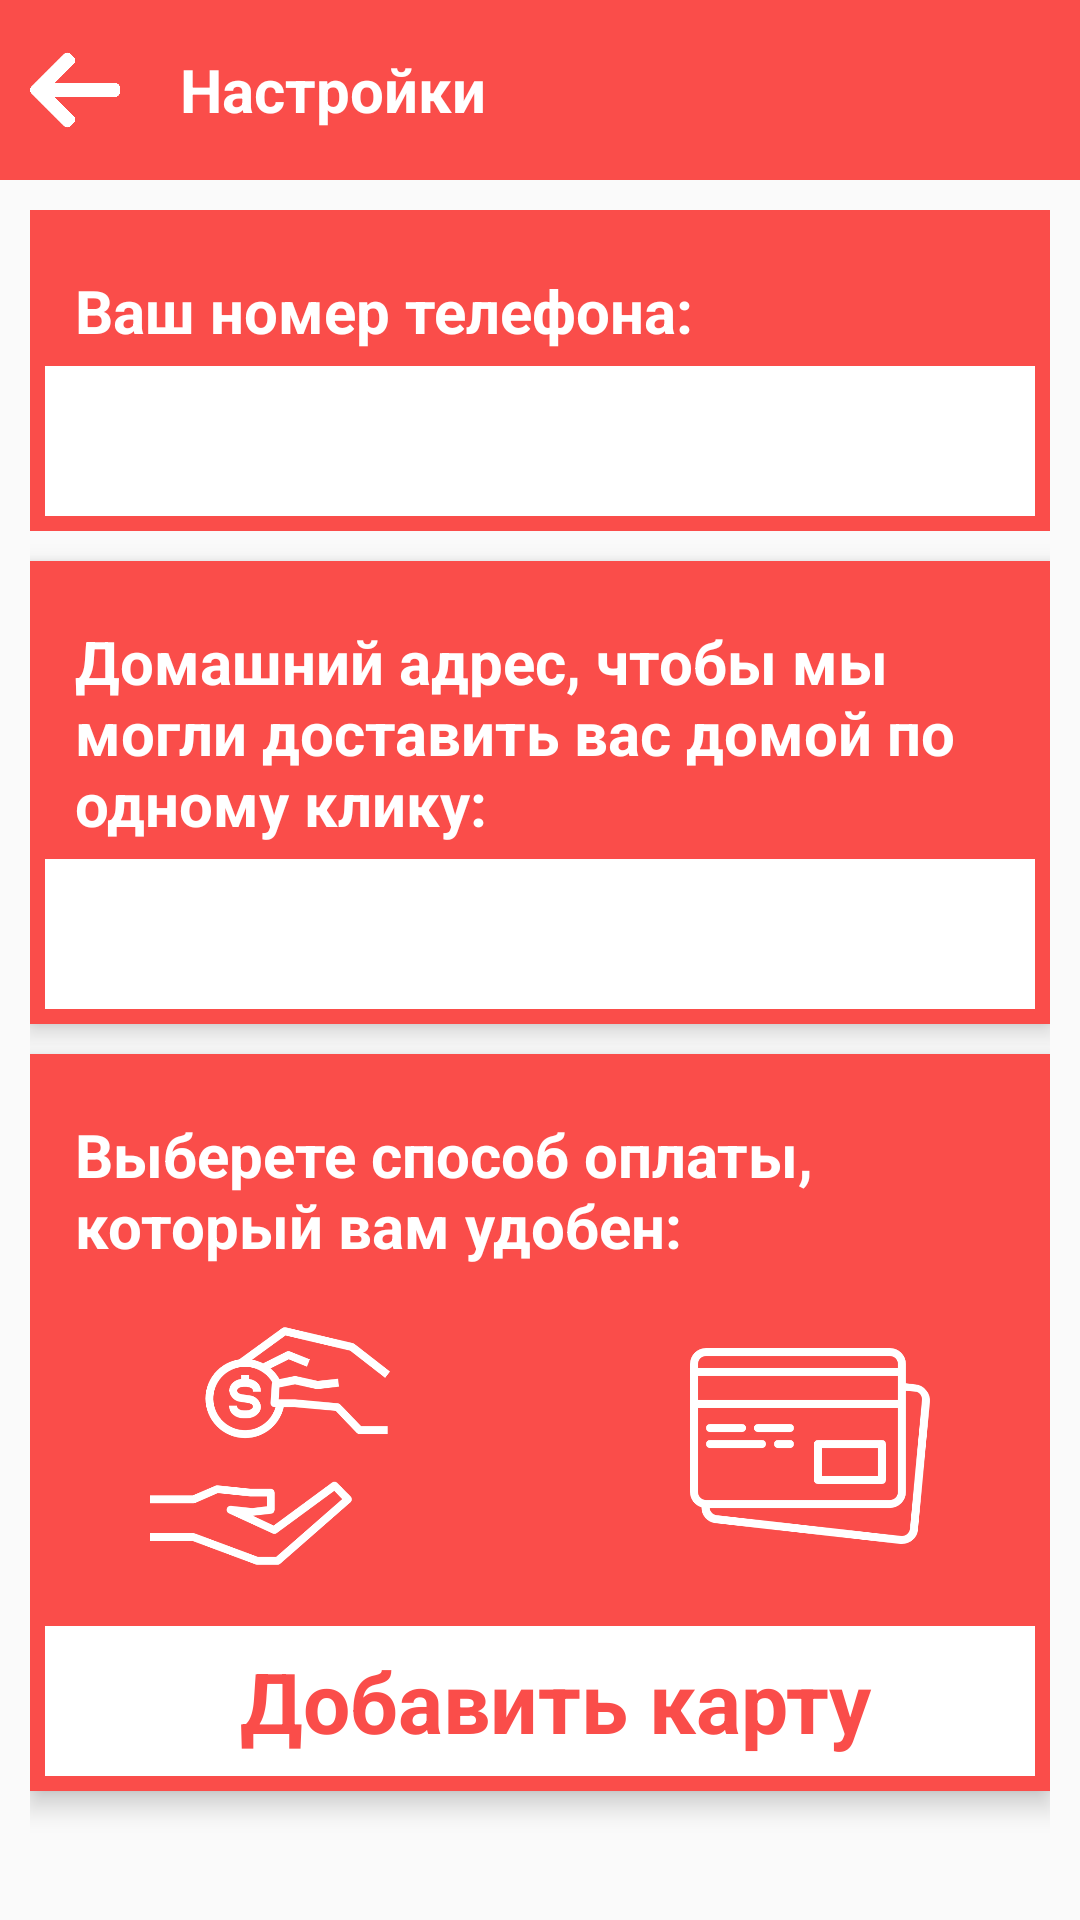

Icon click points for this 1080×1920 phone screenshot, format [x,y]:
left arrow: [75,90]
pay: [270,1446]
